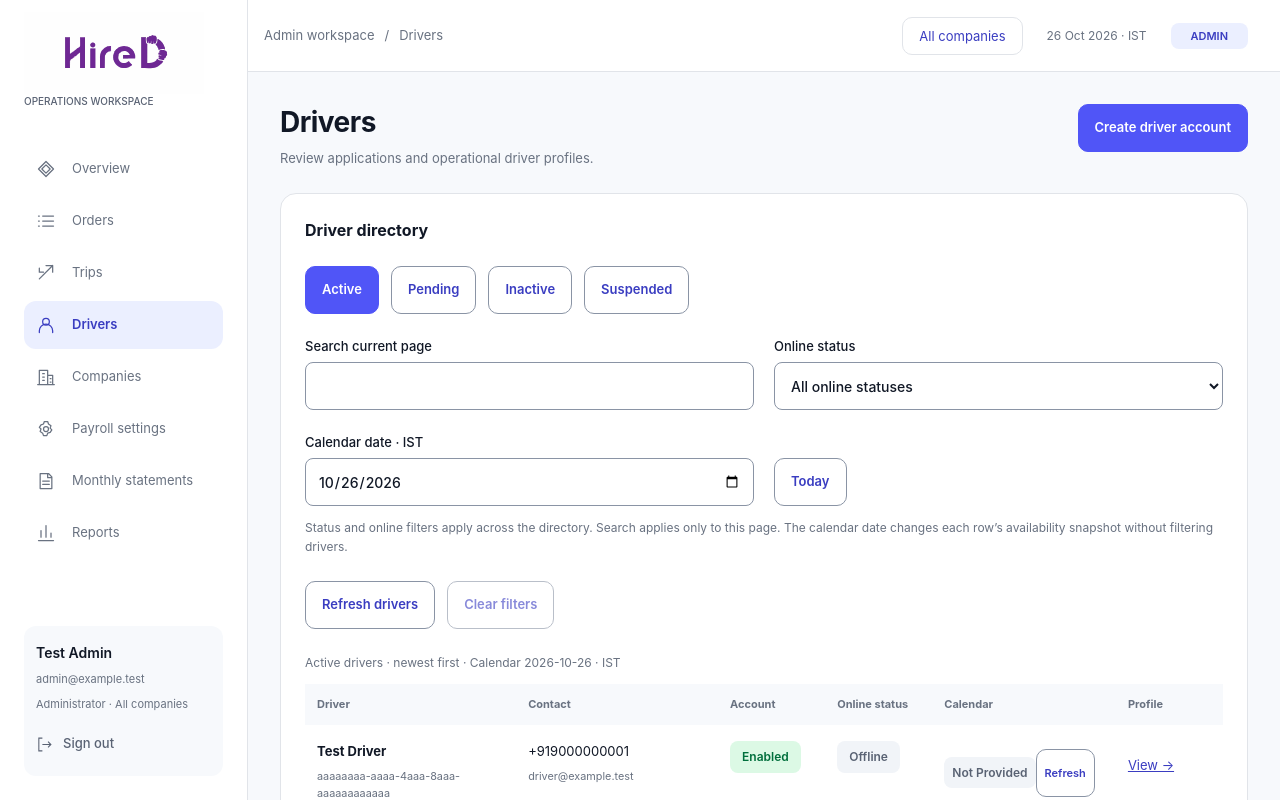
Scenario: protected driver screens › defaults invalid URL filters to safe server values and filters search locally
The width and height of the screenshot is (1280, 800).
Expected: the link with aria-label "View Test Driver" is shown, [1128,757,1174,773]
Type "absent" into the search field labelled "Search current page" at (530, 386), box [305,362,754,410]
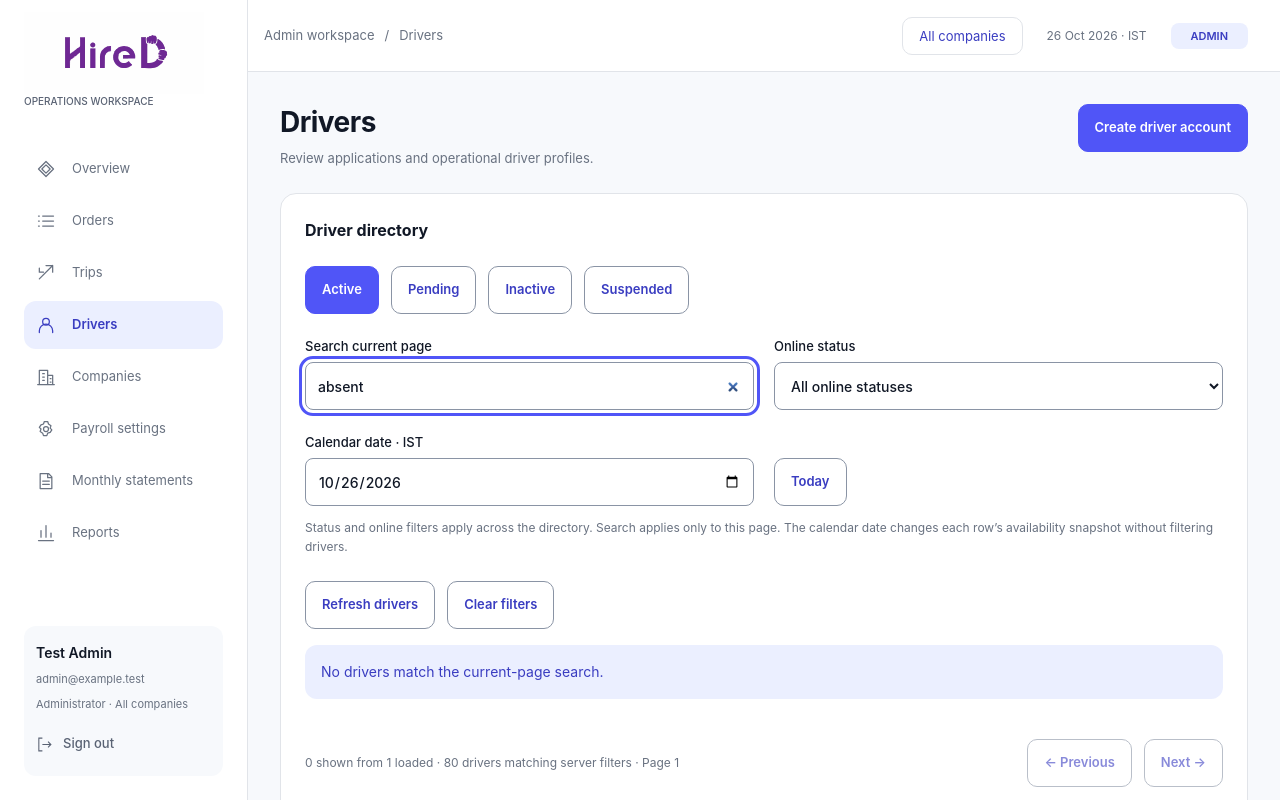
Expected: the text "No drivers match the current-page search." is shown, [305,645,1223,699]
Expected: the text "0 shown from 1 loaded · 80 drivers matching server filters · Page 1" is shown, [305,753,679,773]
